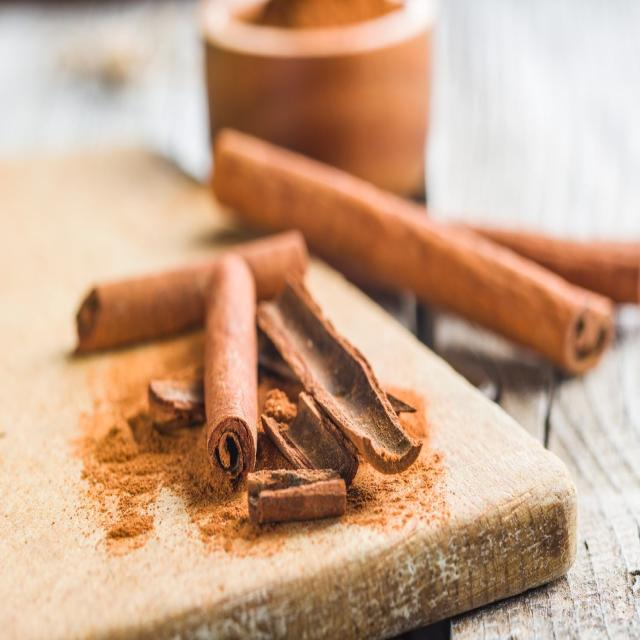Cinnamon: (212, 129, 612, 374), (258, 278, 421, 474), (76, 258, 219, 352), (472, 227, 640, 303), (204, 253, 258, 478), (232, 231, 308, 300)
